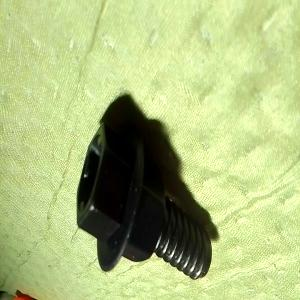parafuso: (75, 119, 214, 281)
